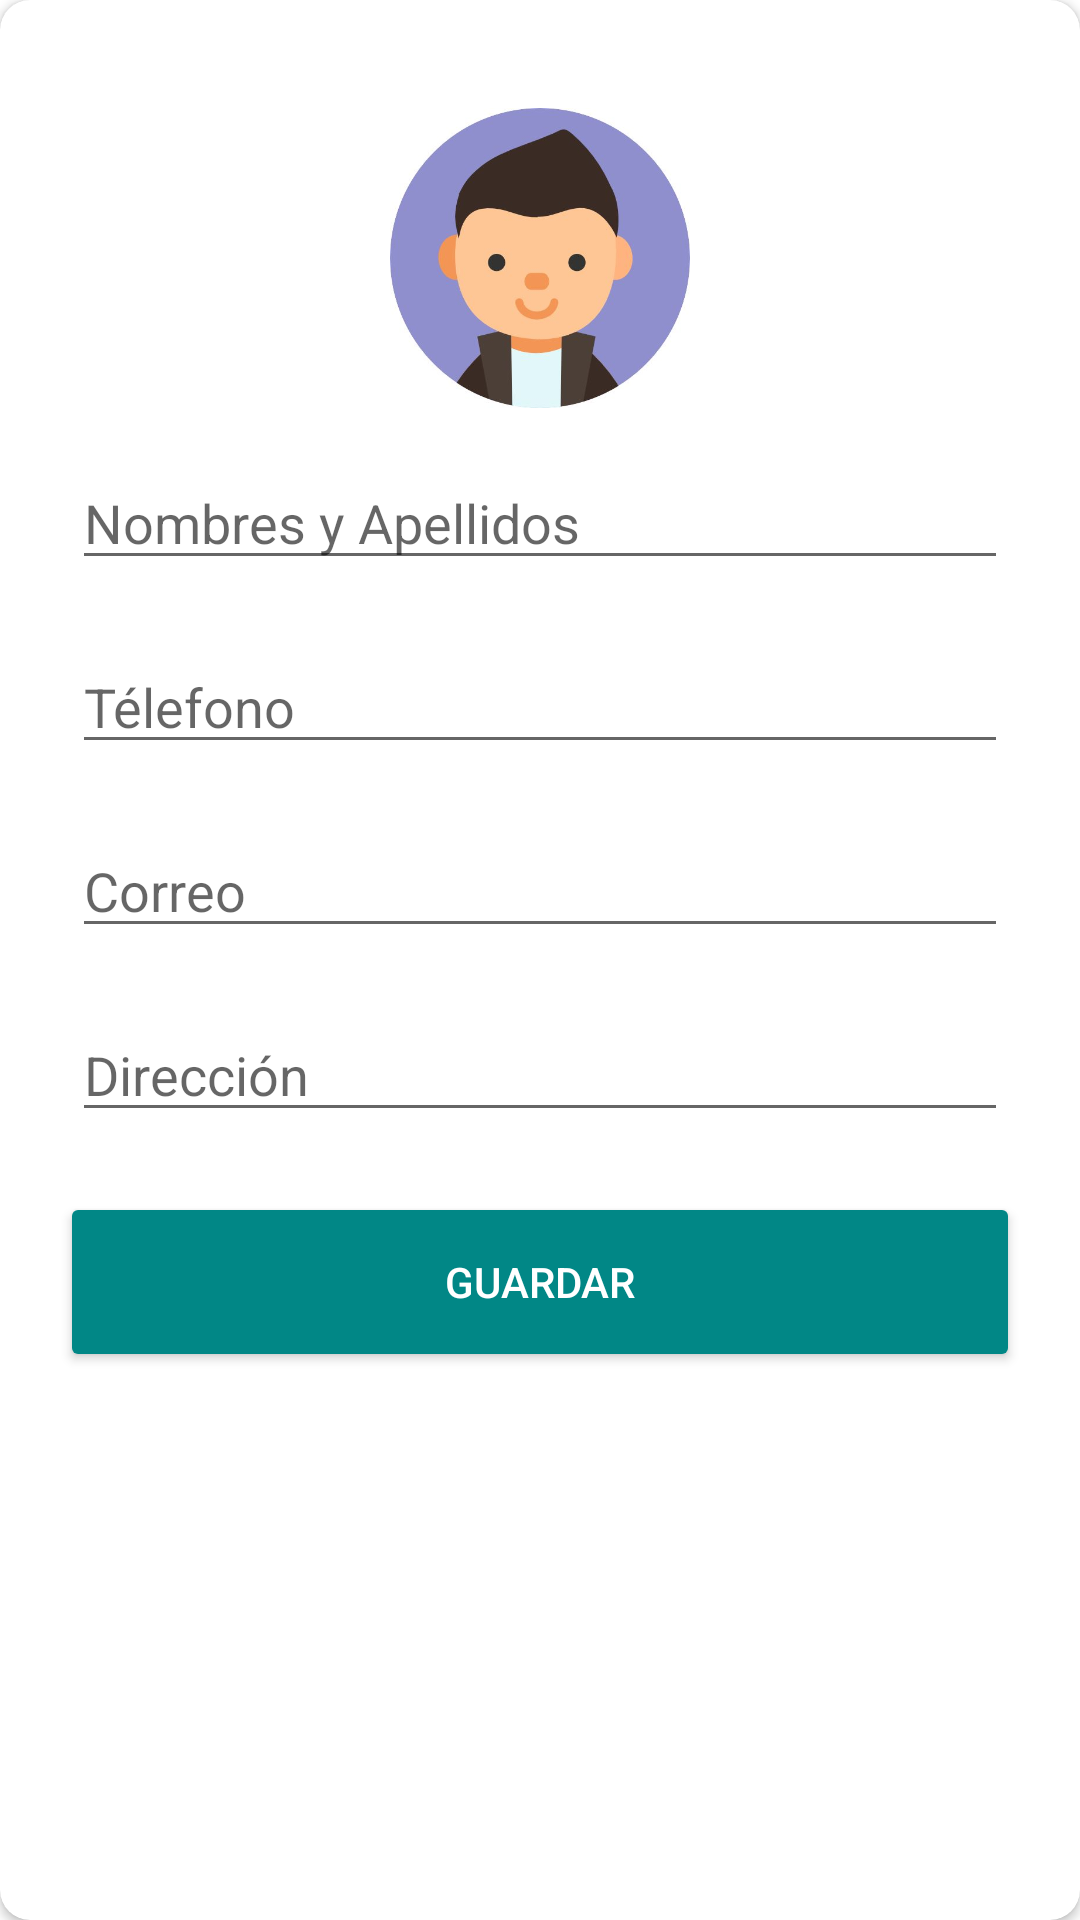

Locate icon controls on the screen. Image size 1080x1920, boxes as bbox=(x1, y1, x2, y2).
usuario: bbox=(390, 108, 690, 408)
